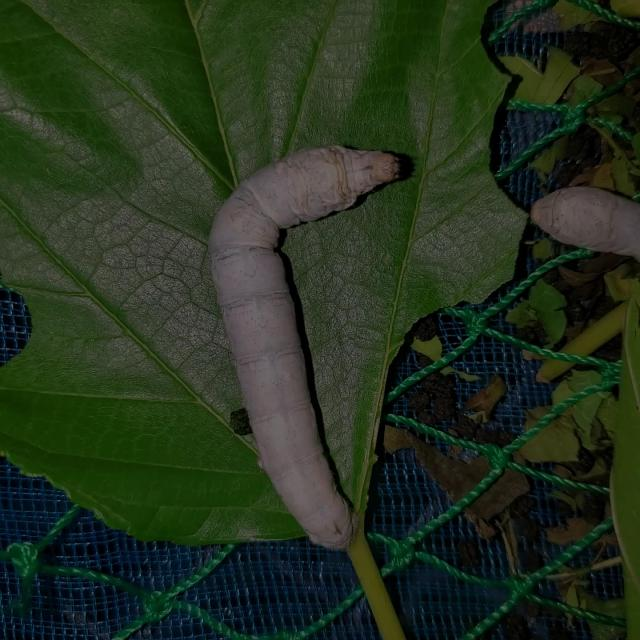Healthy: (194, 134, 413, 549)
